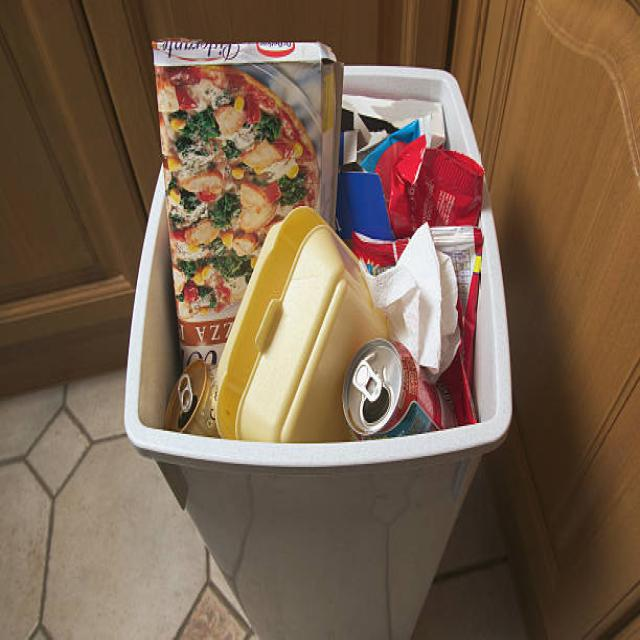trash: (147, 49, 474, 451)
